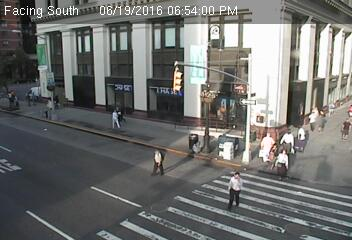neg: (150, 76, 174, 107), (1, 202, 22, 231), (111, 71, 127, 93), (130, 68, 145, 88), (16, 54, 30, 73), (4, 159, 16, 175), (209, 26, 220, 39), (2, 38, 11, 49)
pos: (219, 169, 250, 210), (149, 146, 172, 178), (337, 115, 351, 142)
